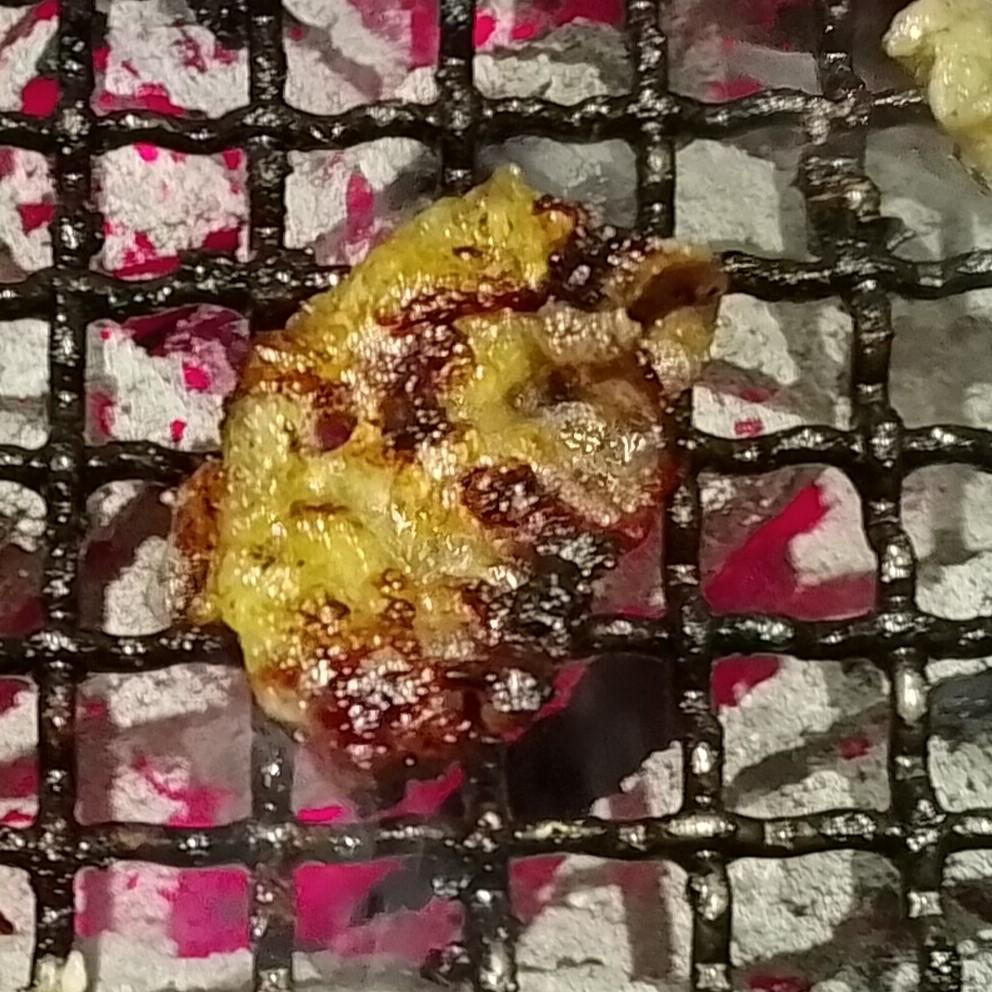Overcooked: (204, 170, 728, 816)
